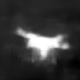plane: (13, 26, 71, 66)
